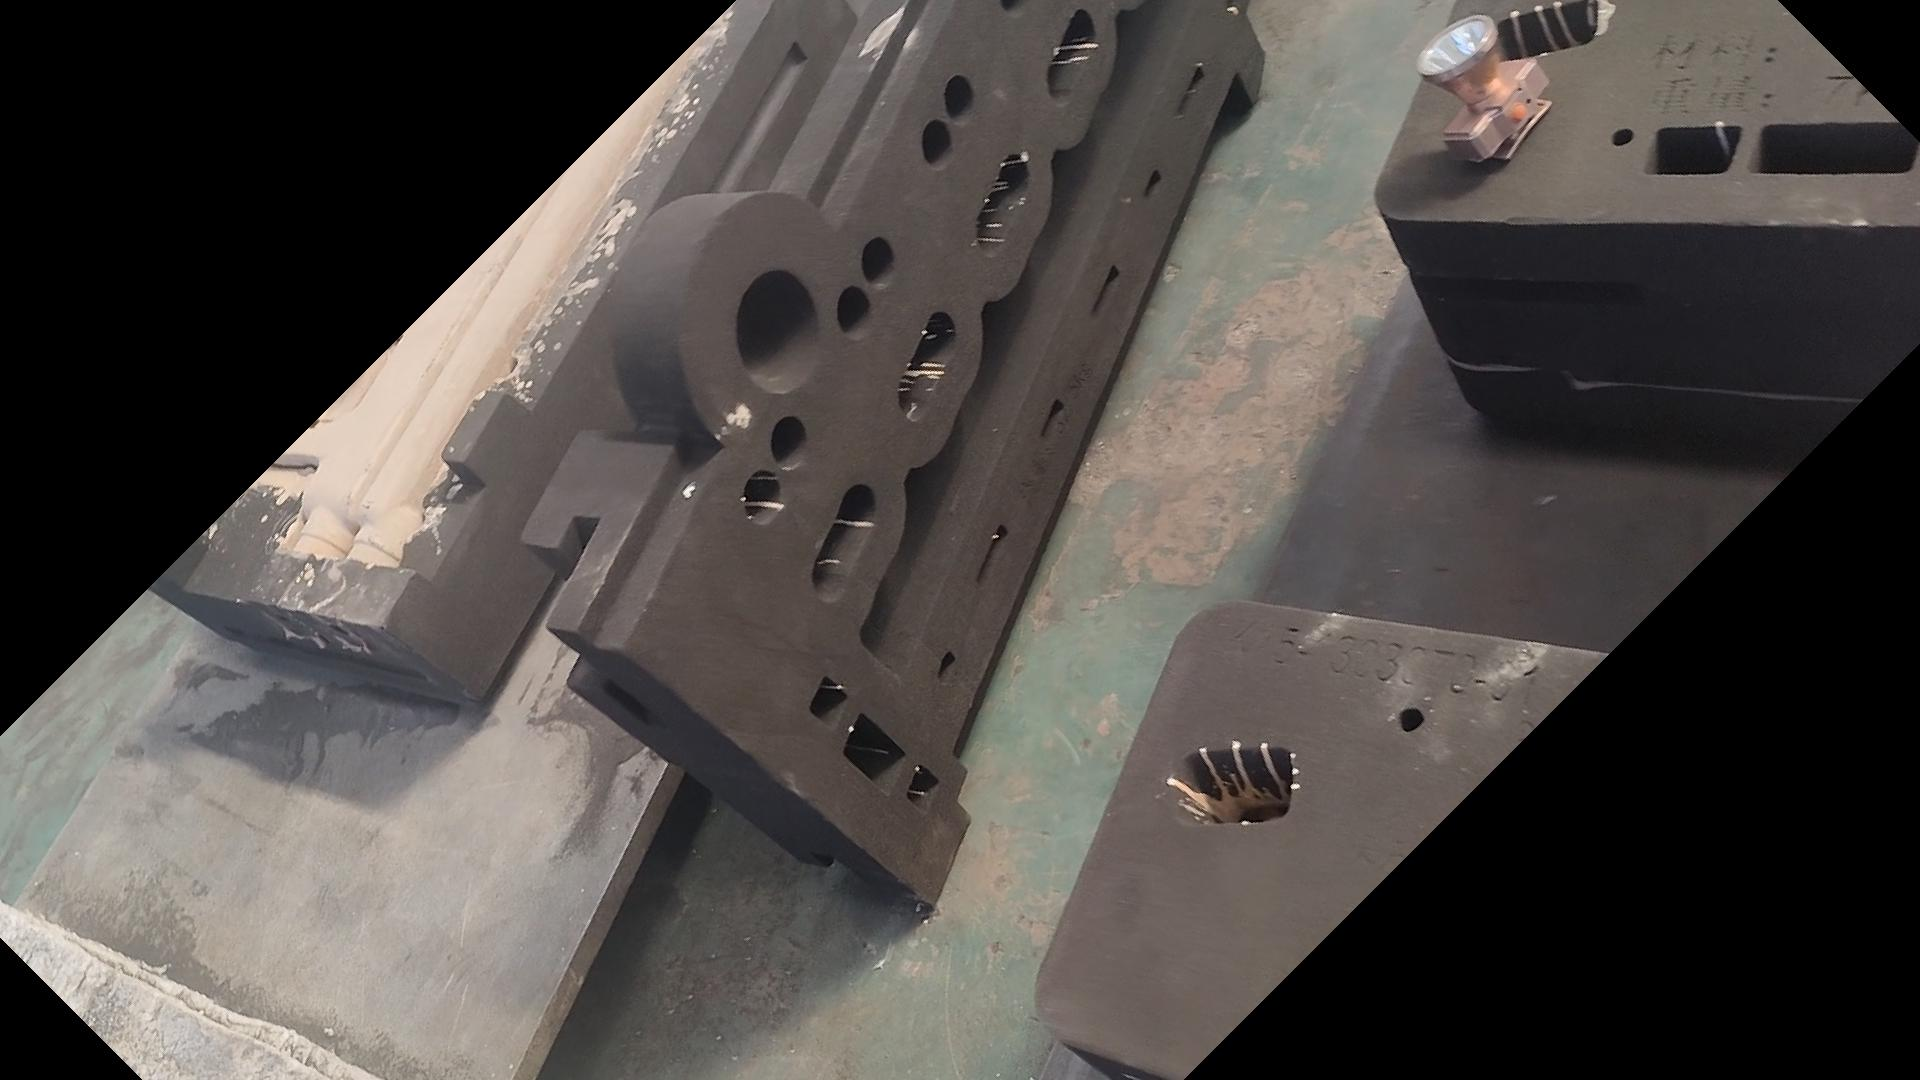pouring hole: (736, 269, 824, 396)
